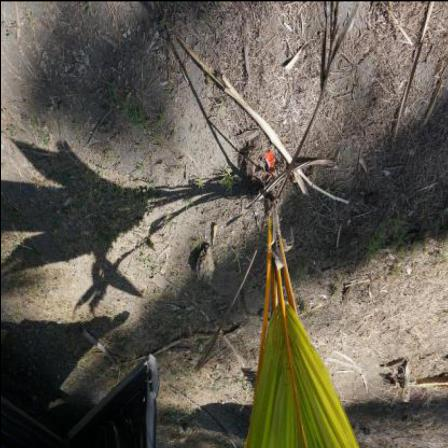Plastic bag - wrapper: (264, 150, 276, 180)
Unlabeled litter: (417, 396, 421, 400)
